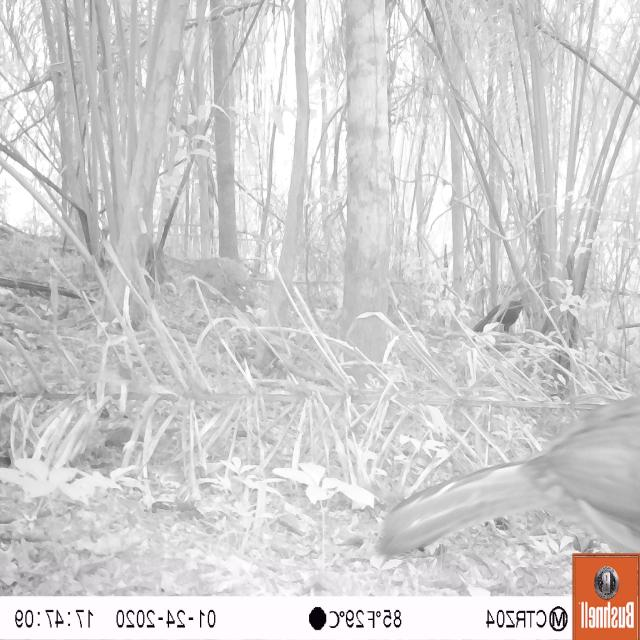Spixs Guan: (371, 380, 640, 574)
